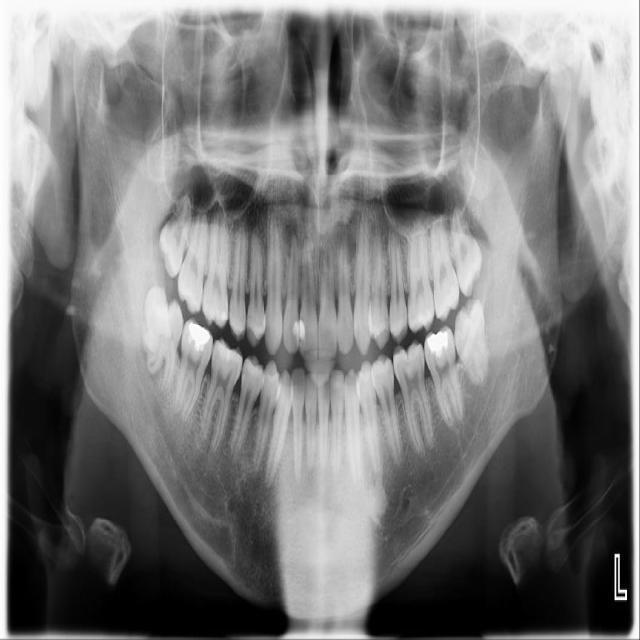Filling: (182, 323, 210, 351), (427, 329, 452, 359), (300, 320, 312, 351), (289, 317, 301, 347)
impacted tooth: (144, 283, 187, 400), (452, 298, 488, 388), (157, 187, 193, 276)
